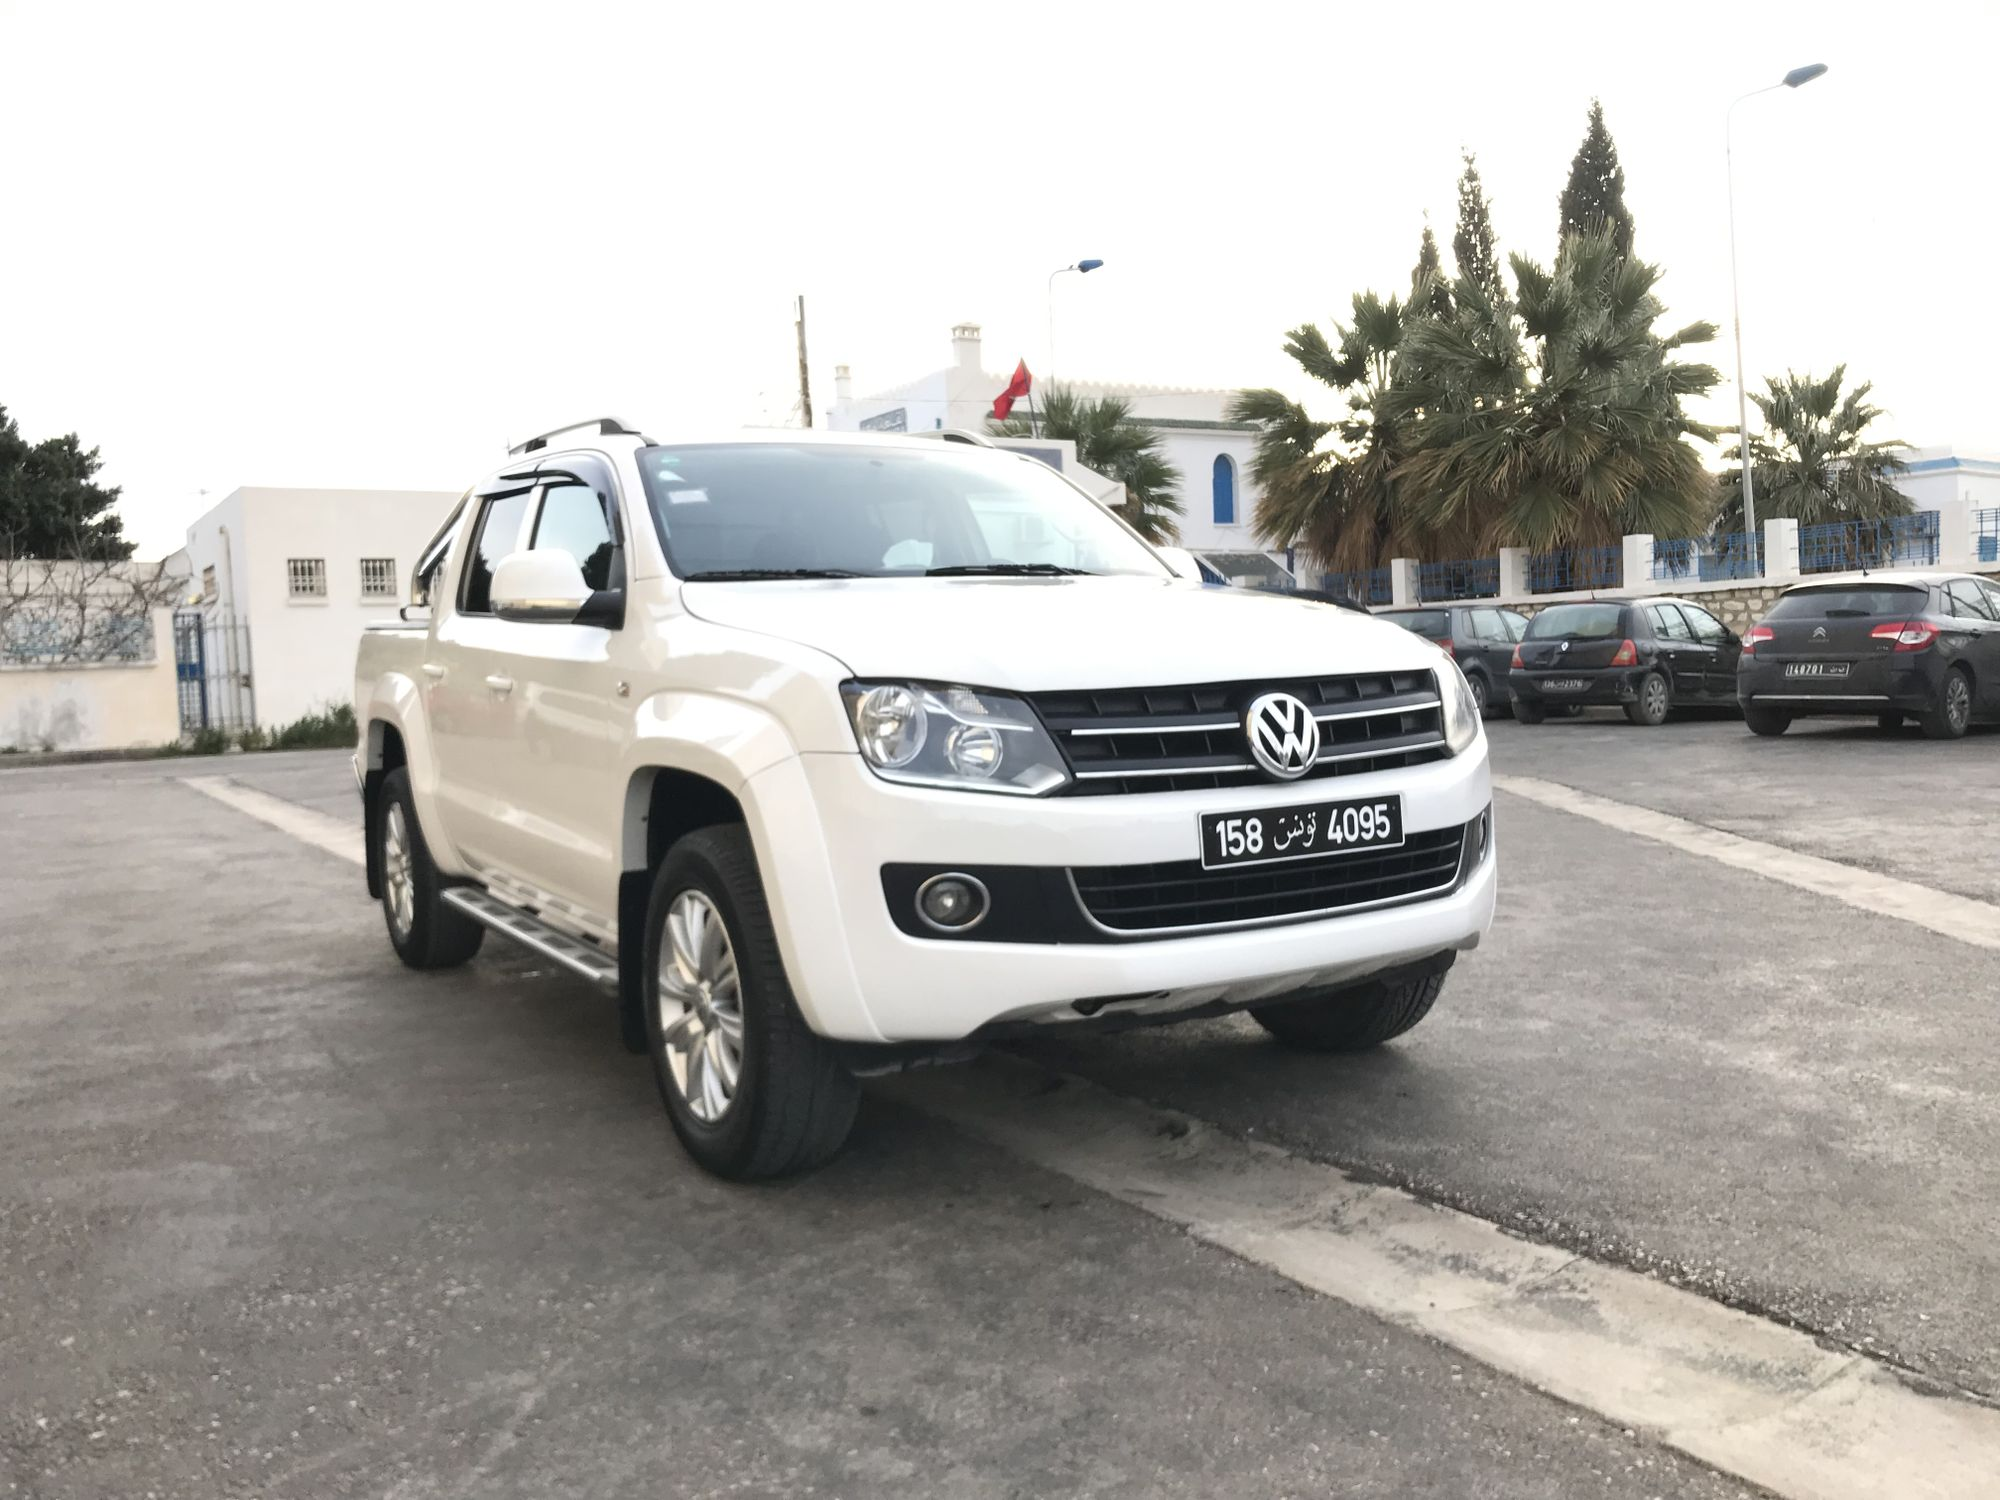LP: (1191, 791, 1413, 870)
